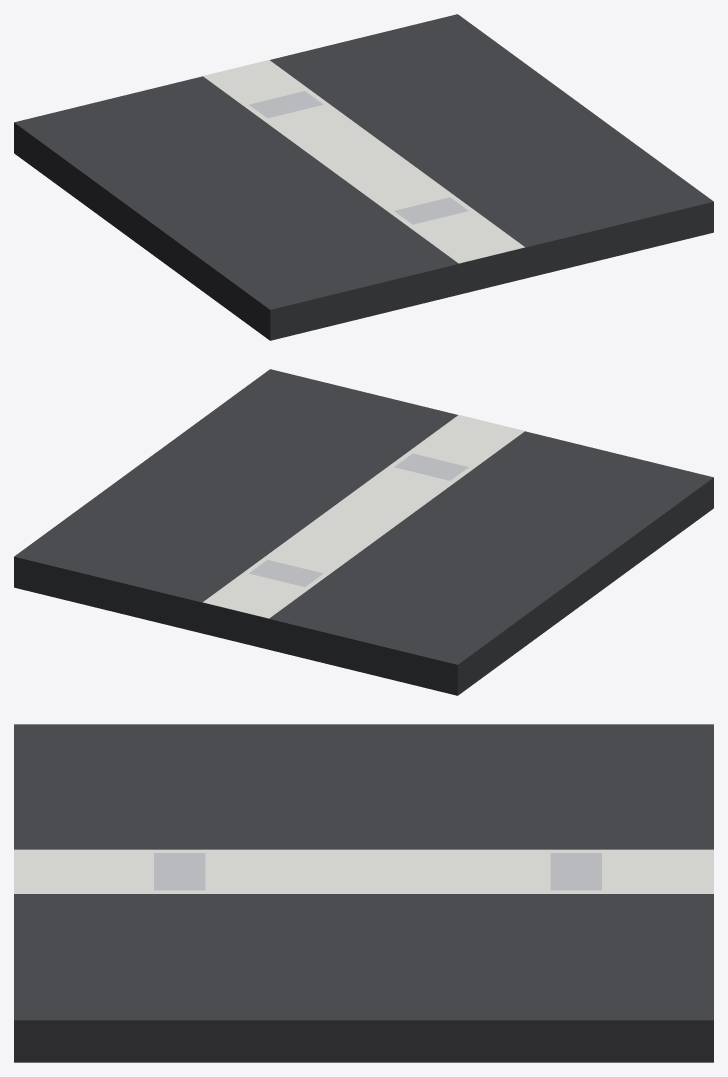
File: SC_Gnd_Road_StopLine.gltf
The picture shows the model from 3 angles, top to bottom: view 1: azimuth 30°, elevation 25°; view 2: azimuth 150°, elevation 25°; view 3: azimuth 270°, elevation 25°; orthographic projection. The views are drawn at different scales.
Visible parts, largest first — view 1: SC_Gnd_Road_StopLine; view 2: SC_Gnd_Road_StopLine; view 3: SC_Gnd_Road_StopLine.
Boxes of the visible parts, x1,y1,x2,y2 form: SC_Gnd_Road_StopLine: [14, 14, 713, 340]; SC_Gnd_Road_StopLine: [14, 369, 713, 695]; SC_Gnd_Road_StopLine: [14, 724, 713, 1062].
Size of the model in its own units: 3 by 0.2028 by 3.
1 material, 1 textured.
